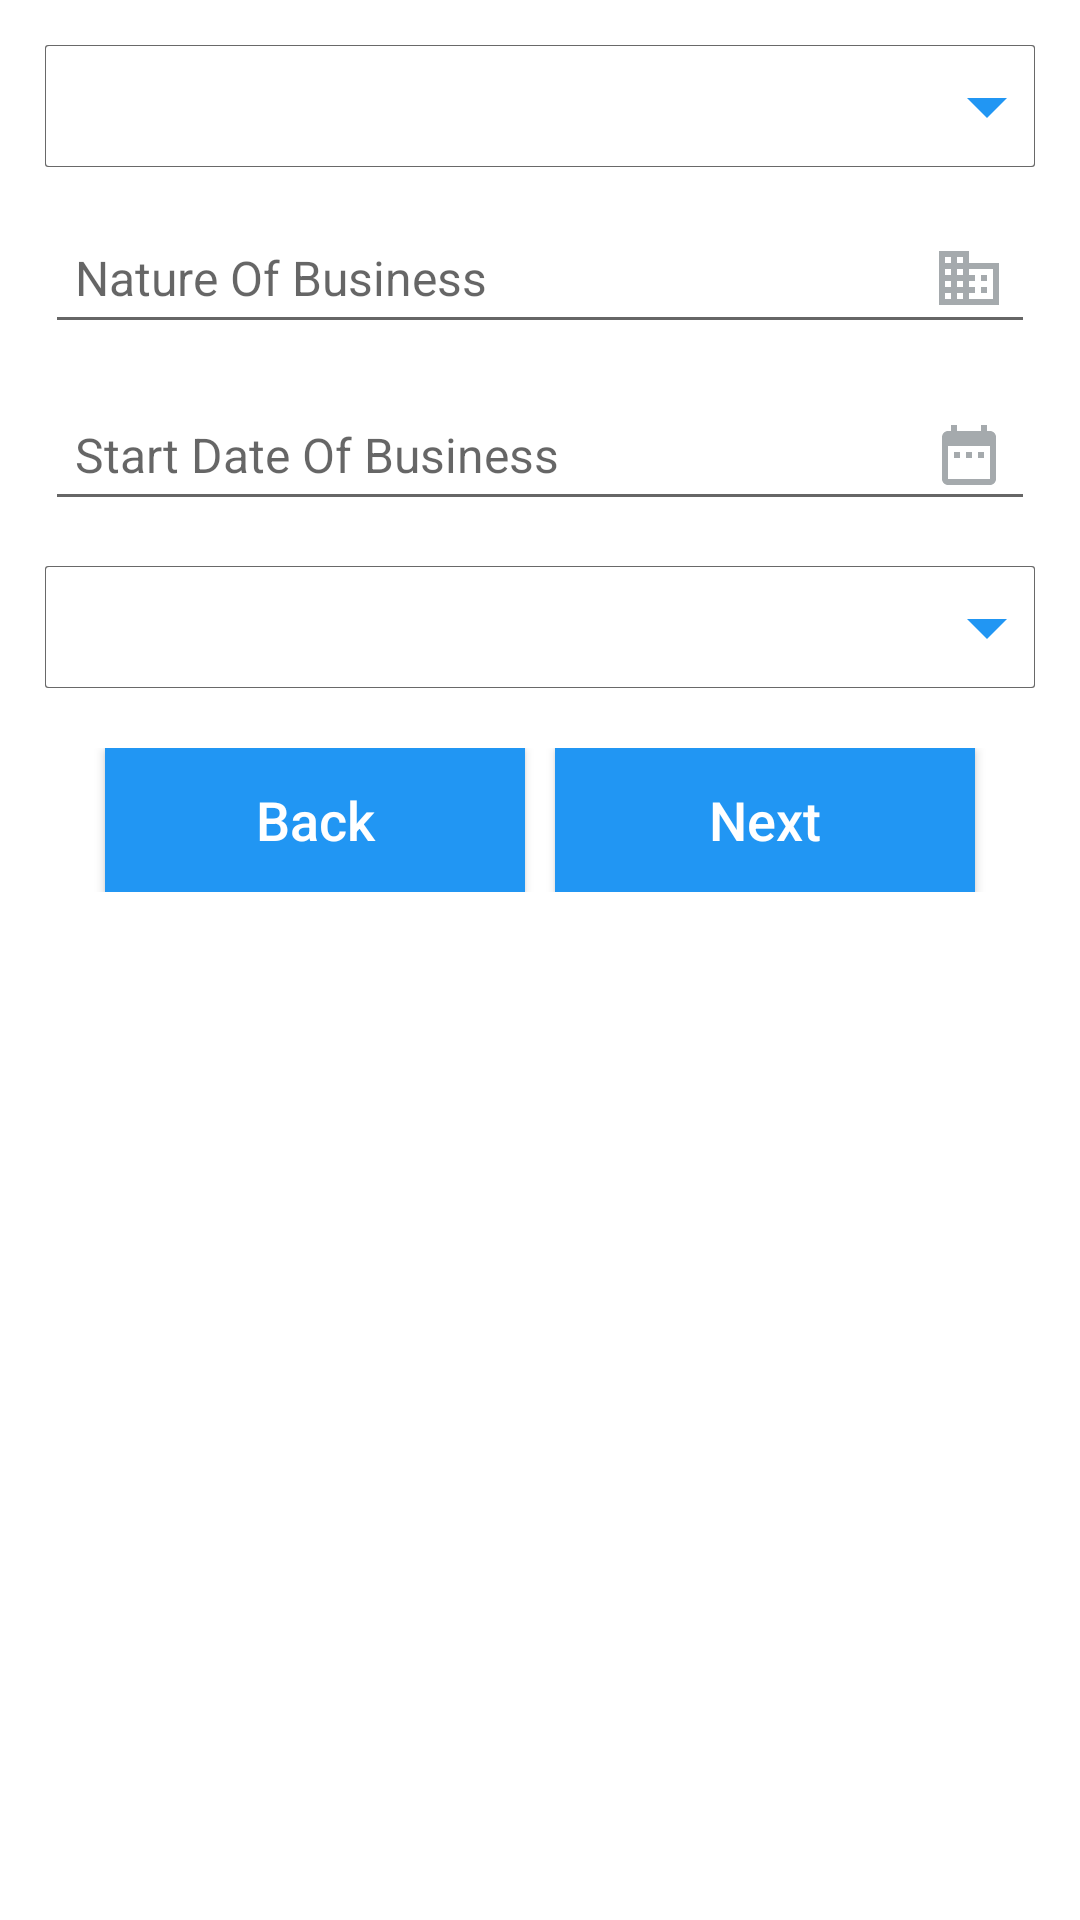

Named icons in this screenshot (1080px x 1920px) and their bounding boxes, (x1, y1, x2, y2):
arrow drop down: (967, 98, 1007, 118), (967, 619, 1007, 639)
